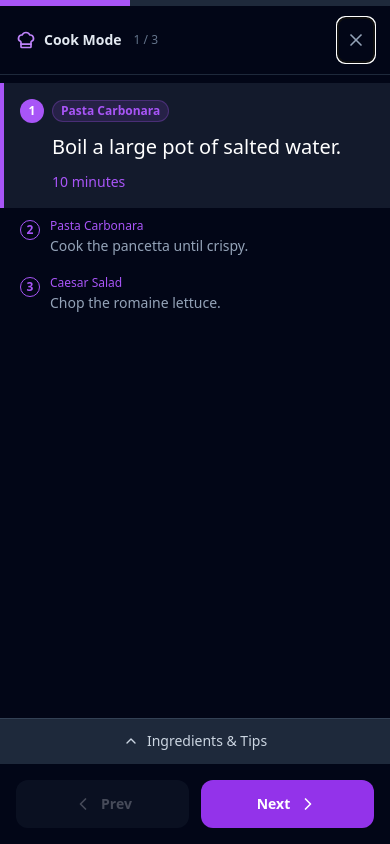
Scenario: CookModeDialog › clicking mobile drawer toggle changes aria-label and shows sidebar content
Click the button with aria-label "Show ingredients". click: x=195, y=740
box: [0, 718, 389, 763]
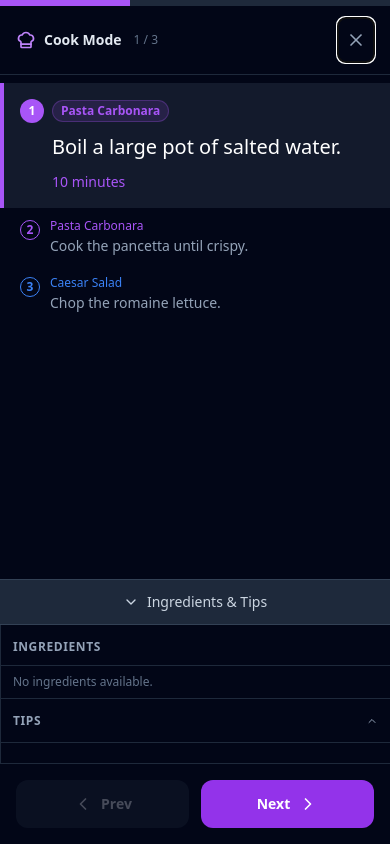
Expected: the button with aria-label "Hide ingredients" is shown, [0, 579, 389, 624]
